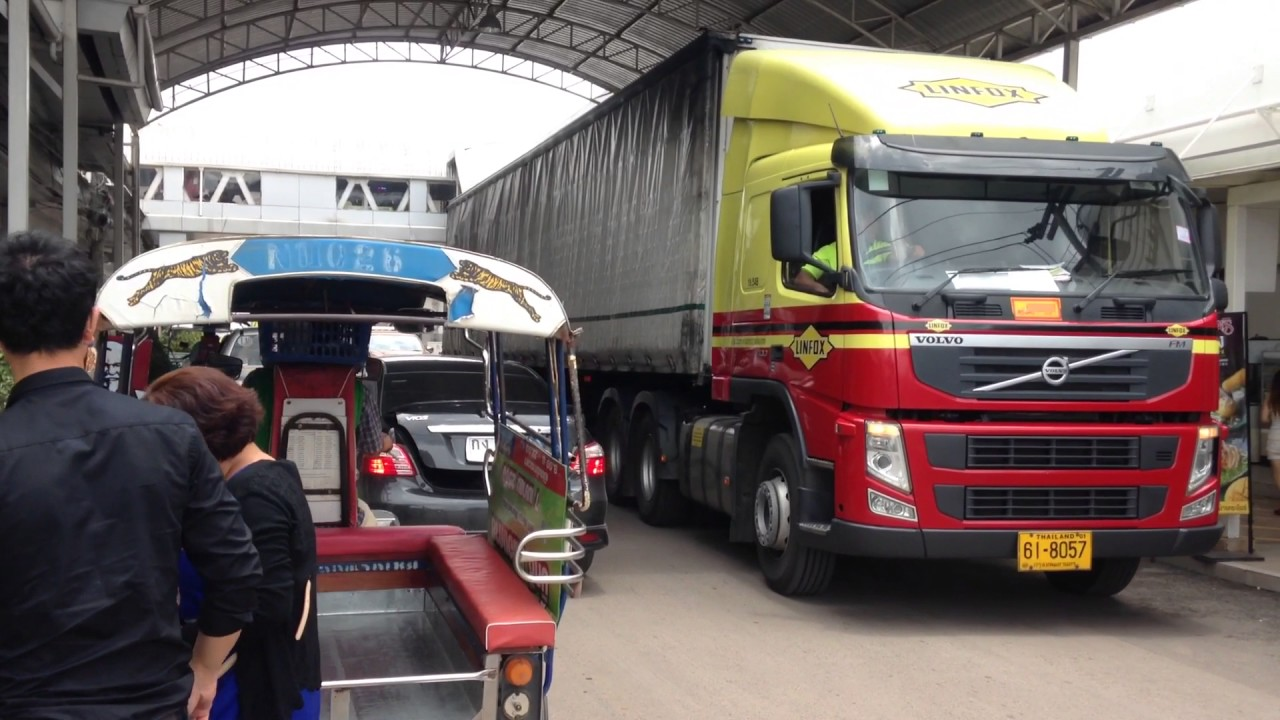truck: (607, 35, 1226, 612)
